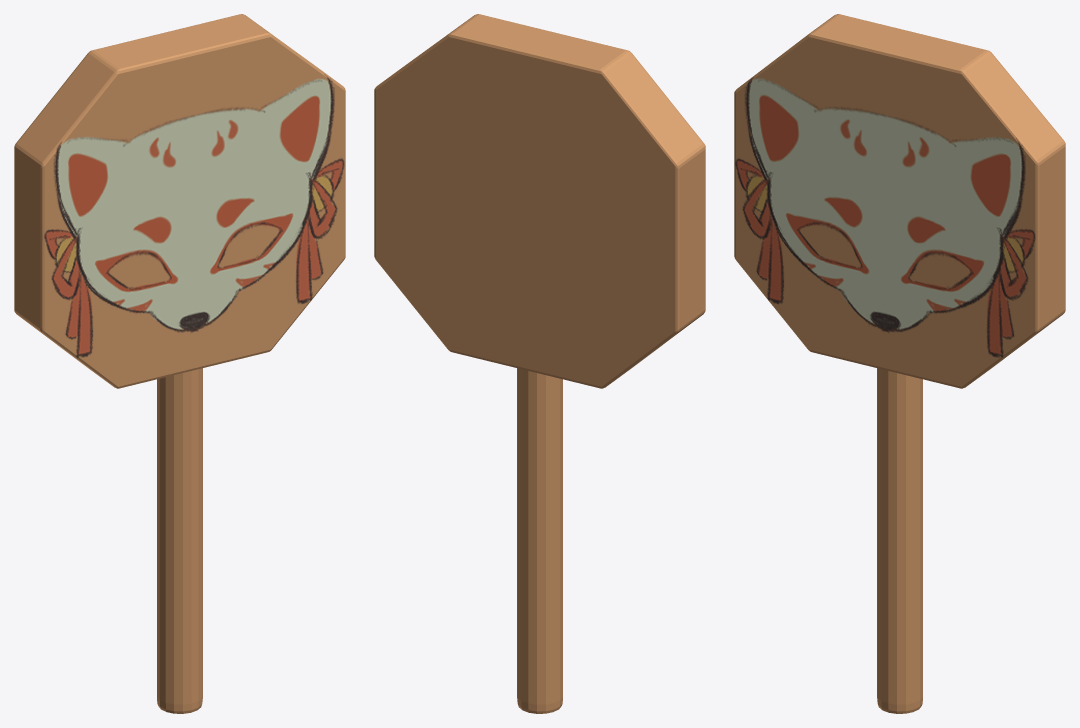
File: TargetKitsune.fbx
3 renders of one model, left to right at view 1: azimuth 30°, elevation 25°; view 2: azimuth 150°, elevation 25°; view 3: azimuth 330°, elevation 25°, orthographic.
Parts seen in each view (by area): view 1: TargetKitsune; view 2: TargetKitsune; view 3: TargetKitsune.
Boxes of the visible parts, box(x1,y1,x2,y2) form: TargetKitsune: box(14, 14, 345, 713); TargetKitsune: box(374, 14, 705, 713); TargetKitsune: box(734, 14, 1065, 713).
Size of the model in its own units: 235 by 489 by 38.8.
2 materials, 1 textured.
